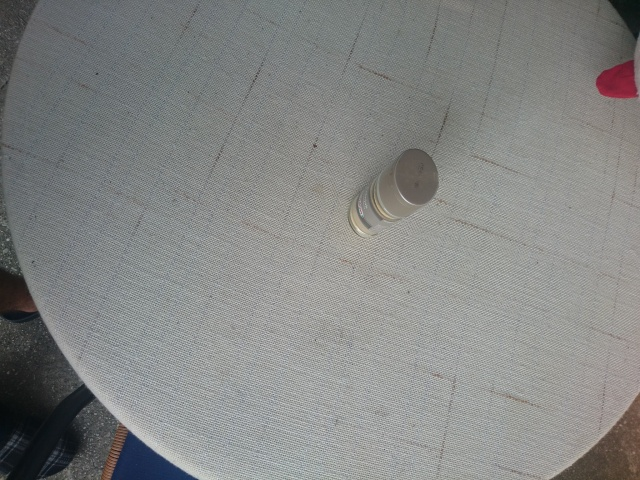Kotanyi Garlic Granules 70g: (345, 146, 440, 241)
